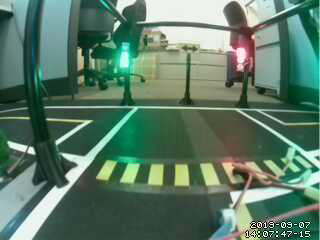Left_Right_sign: (179, 42, 203, 57)
Traffic_light_green: (120, 41, 130, 69)
Traffic_light_red: (234, 46, 248, 70)
